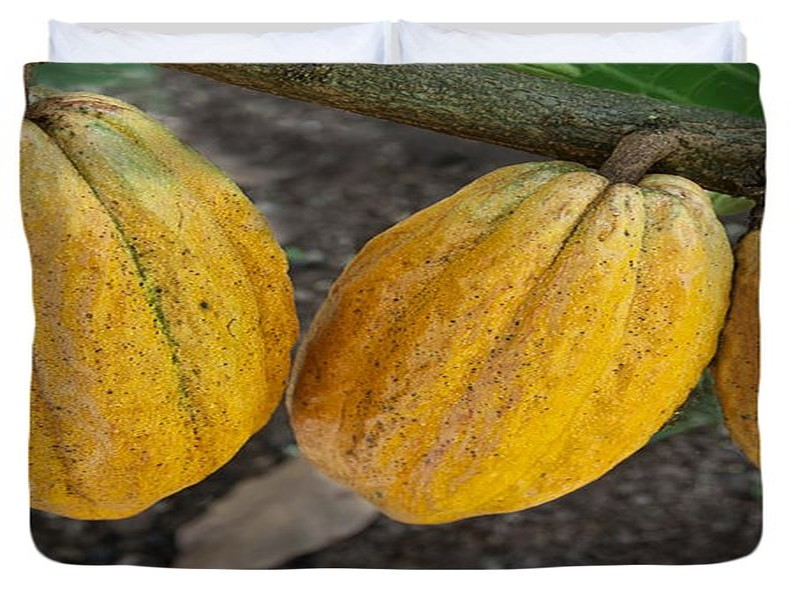Cacaopod: (289, 142, 730, 523), (25, 92, 281, 519)
